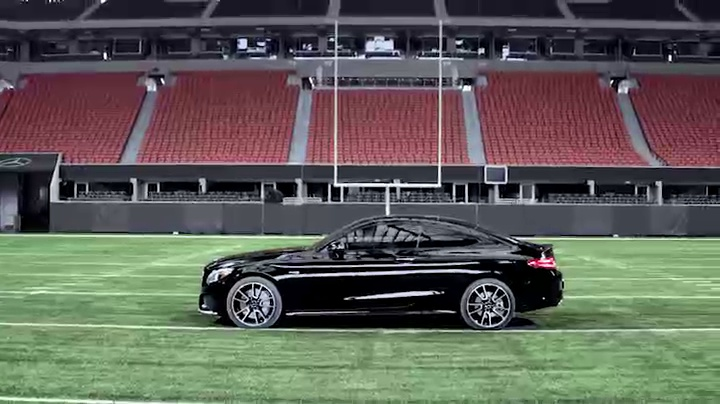amg: (196, 216, 566, 338)
